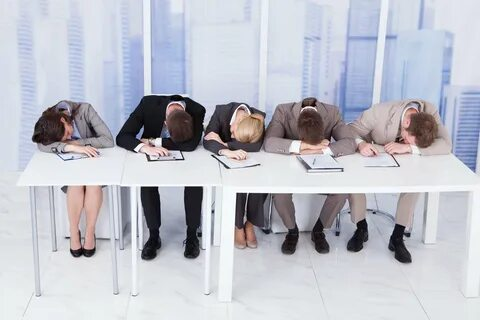sleep: (352, 99, 452, 159), (263, 98, 356, 160), (116, 93, 203, 158), (30, 99, 115, 157), (205, 100, 265, 160)
